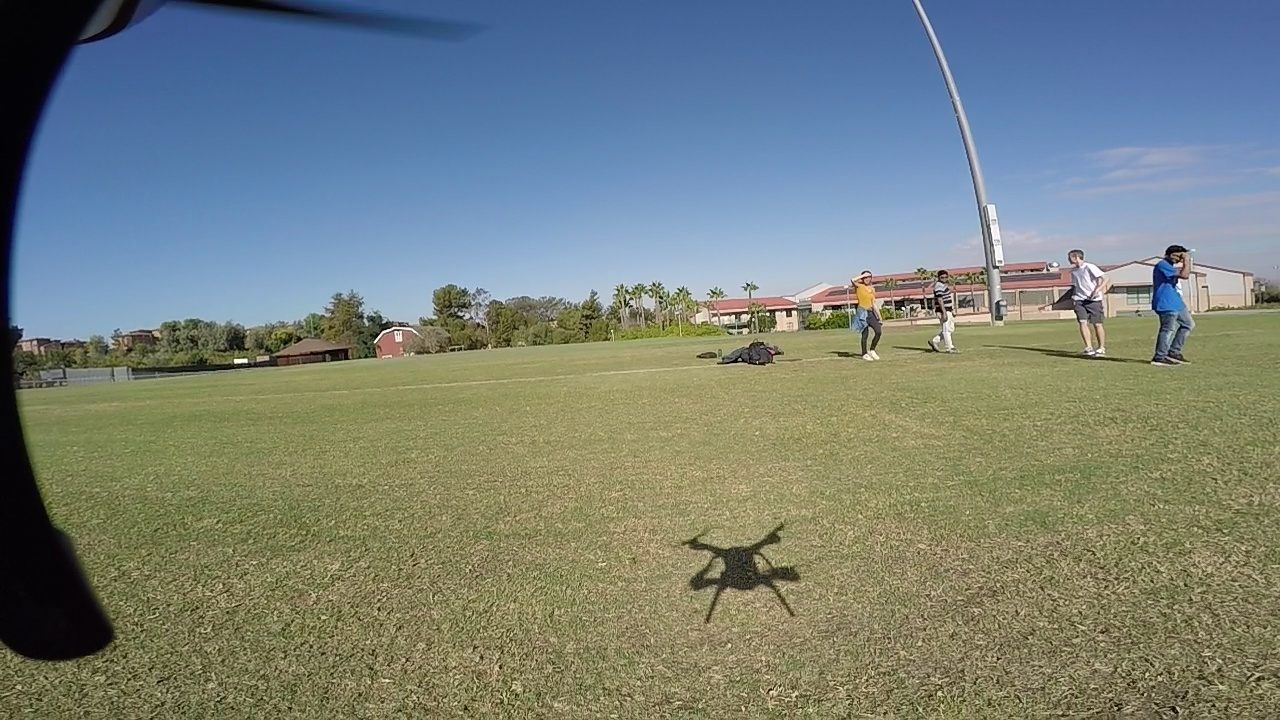person: (1062, 242, 1115, 350), (1147, 236, 1192, 358), (849, 262, 881, 355), (927, 266, 959, 348)
